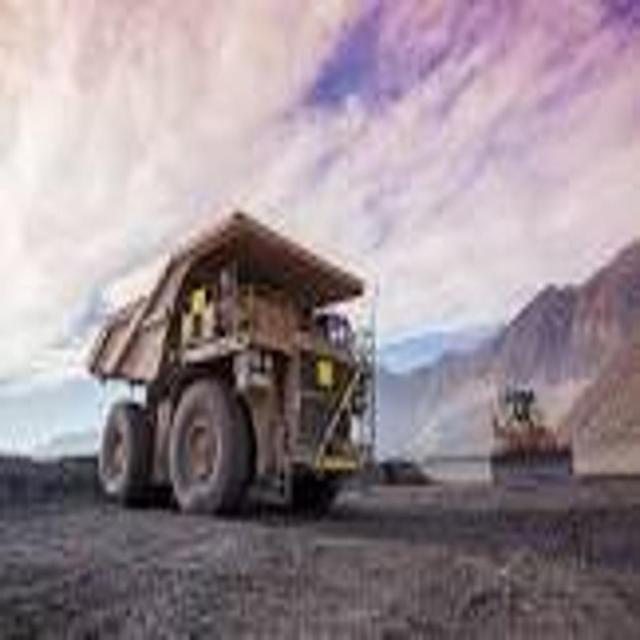dump_truck: (81, 190, 379, 518)
